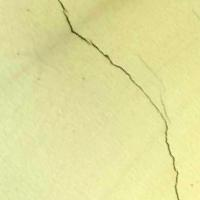crack: (56, 1, 195, 199)
